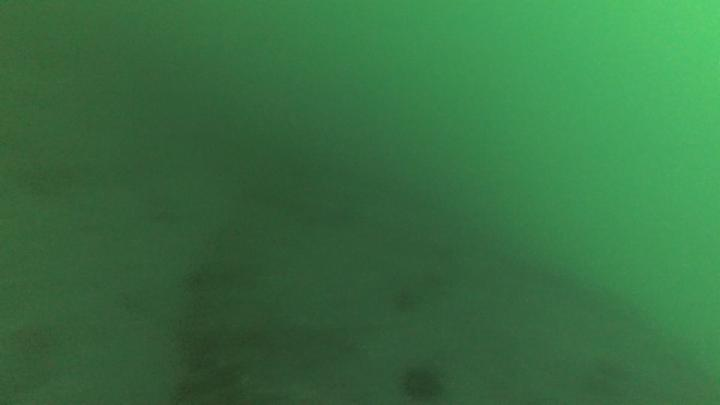echinus: (397, 362, 444, 405)
